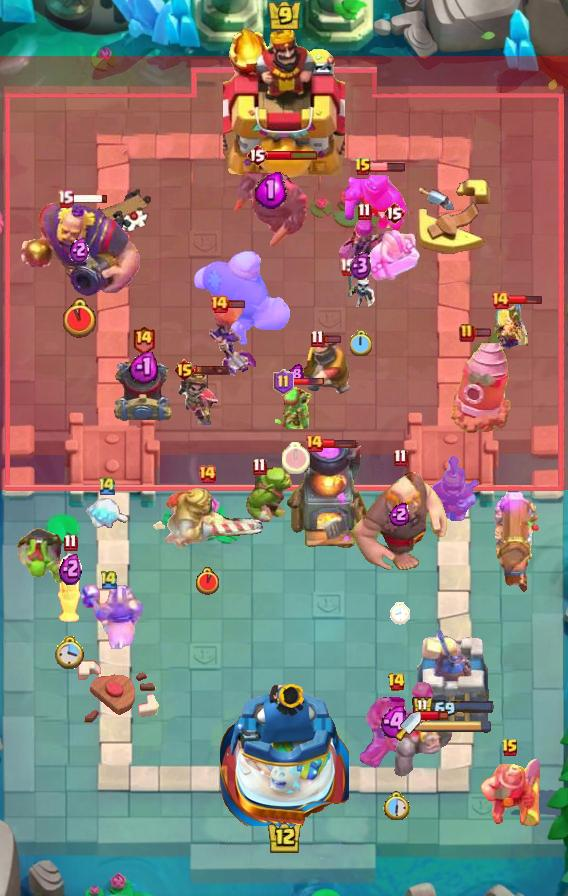arrows: (491, 302, 532, 350)
balloon: (350, 472, 450, 576), (191, 249, 293, 349)
bandit: (477, 756, 543, 826)
bar: (414, 623, 492, 731)
bar-level: (15, 525, 65, 585)
bat: (85, 497, 129, 531)
battle-healer: (494, 491, 540, 595)
bomber-evolution: (176, 369, 220, 425)
earthquake: (425, 456, 479, 526), (296, 336, 356, 398)
electro-spirit: (255, 171, 287, 210), (379, 706, 413, 738), (130, 349, 158, 383), (58, 552, 81, 585), (350, 252, 372, 280), (70, 235, 90, 263), (389, 502, 411, 526), (288, 364, 304, 384)
elixir: (63, 298, 97, 338), (54, 635, 85, 670), (282, 442, 310, 474), (382, 791, 410, 821), (196, 567, 219, 595), (351, 330, 374, 356), (390, 602, 410, 626)
emote: (266, 149, 319, 161), (414, 709, 449, 722), (193, 364, 230, 376), (370, 161, 406, 173), (508, 294, 543, 306), (72, 192, 109, 203), (323, 439, 358, 450), (291, 377, 325, 387), (473, 327, 492, 338), (226, 299, 246, 309), (322, 334, 342, 344)
evolution-symbol: (339, 209, 389, 271)
executioner: (54, 551, 86, 625)
flying-machine: (242, 464, 298, 522)
freeze: (356, 682, 436, 776), (73, 582, 145, 652)
giant-snowball: (275, 385, 317, 429)
goblin-giant: (366, 228, 422, 284)
golemite: (233, 153, 309, 249)
heal-spirit: (348, 269, 376, 309)
hunter: (285, 441, 373, 551)
king-tower: (219, 678, 349, 826), (223, 27, 345, 181)
king-tower-bar: (421, 719, 493, 733)
lightning: (18, 200, 142, 298)
magic-archer: (447, 338, 513, 436)
musketeer: (112, 357, 174, 425)
ram-rider: (150, 485, 264, 555)
selected: (413, 696, 496, 718)
tesla-evolution: (207, 301, 259, 378)
text: (131, 324, 156, 355), (273, 369, 295, 395), (173, 358, 196, 382), (246, 143, 268, 167), (383, 201, 405, 225), (97, 476, 117, 497), (99, 569, 119, 590), (490, 290, 510, 310), (209, 294, 229, 314), (304, 433, 324, 453), (197, 464, 217, 484), (386, 672, 406, 692), (354, 157, 372, 177), (501, 738, 519, 758), (57, 189, 75, 207), (339, 257, 357, 275), (459, 323, 475, 343), (392, 449, 407, 468), (252, 456, 267, 475), (62, 533, 77, 552), (357, 203, 371, 221), (311, 329, 325, 347)
tornado: (345, 171, 407, 231)
valkyrie-evolution: (382, 713, 452, 779)
